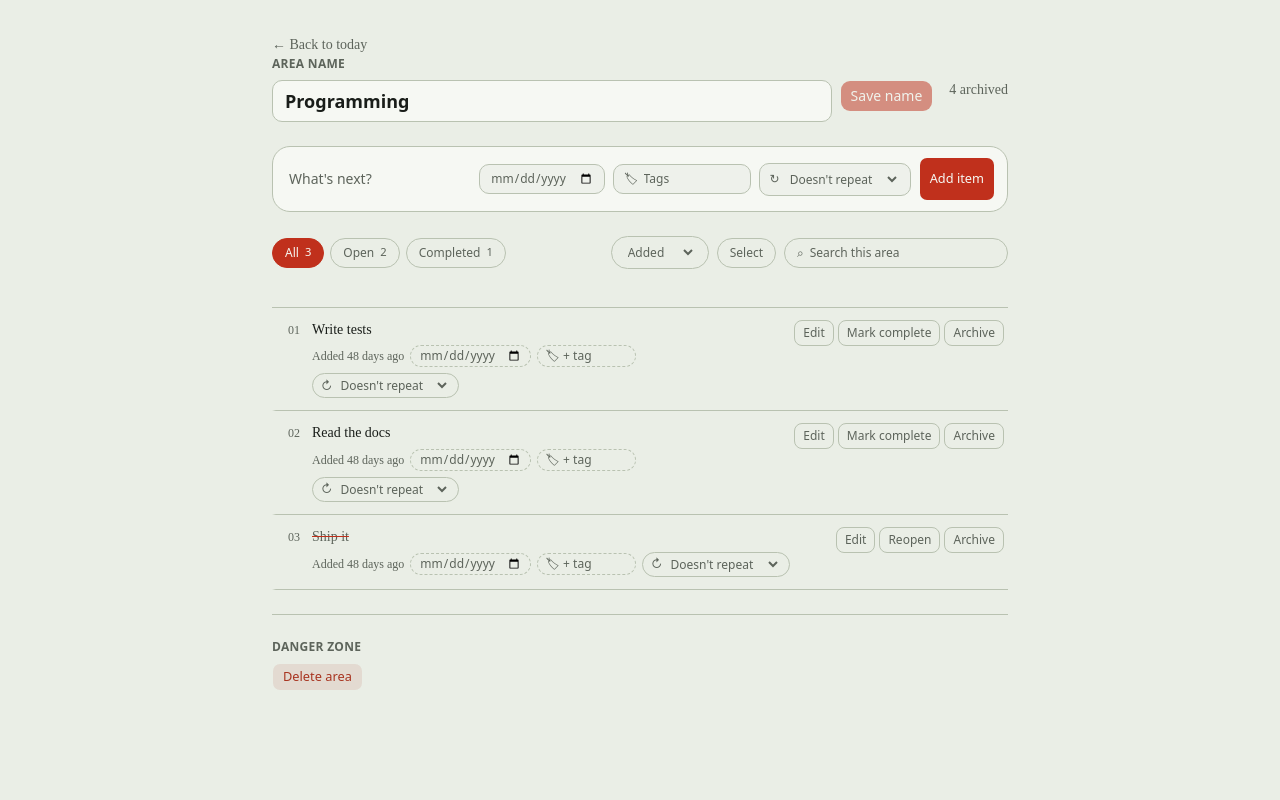
it: AreaRoute › counts what deleting the area would destroy, by state
Expected: the link "Write tests" is shown, x1=312 y1=322 x2=372 y2=337
Click the button "Delete area".
click(317, 677)  # box x1=272 y1=663 x2=363 y2=691
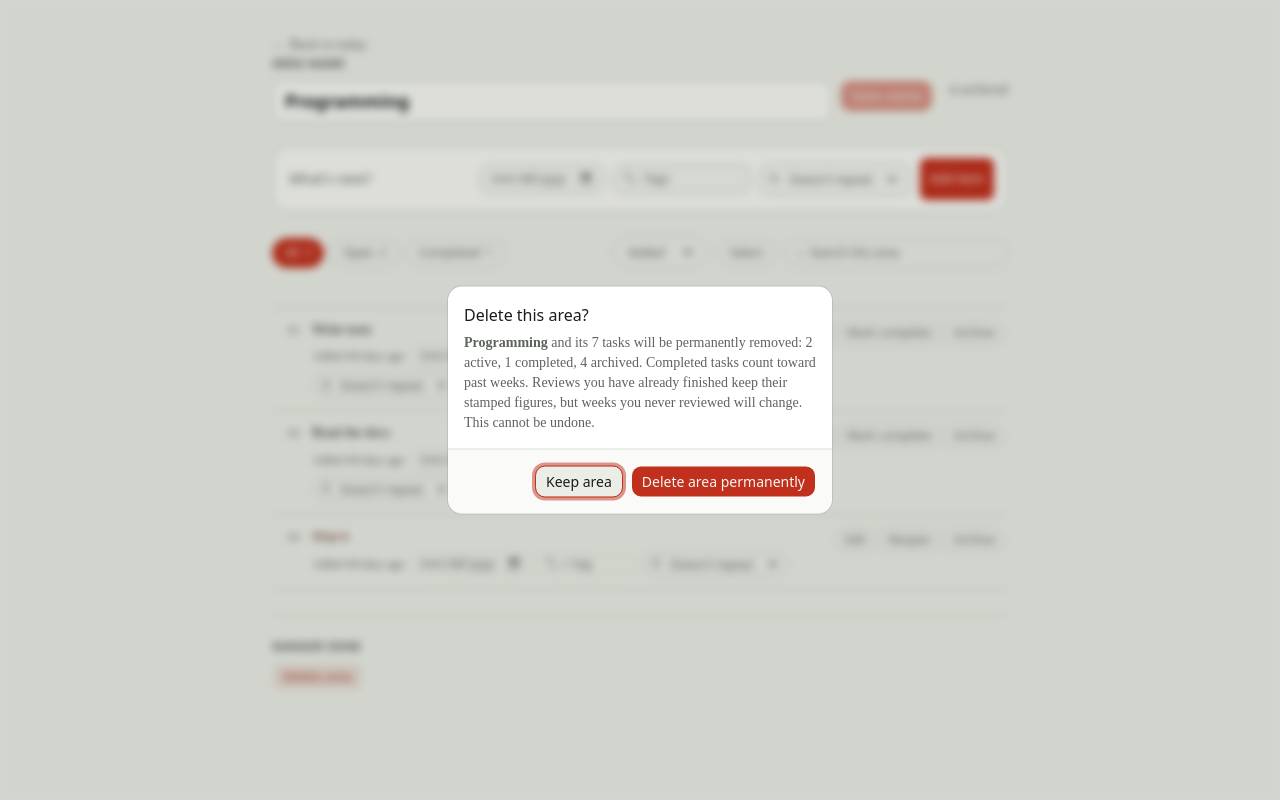
Expected: the dialog shows "7 tasks", x1=448 y1=286 x2=832 y2=514
Expected: the dialog shows "2 active", x1=448 y1=286 x2=832 y2=514
Expected: the dialog shows "1 completed", x1=448 y1=286 x2=832 y2=514
